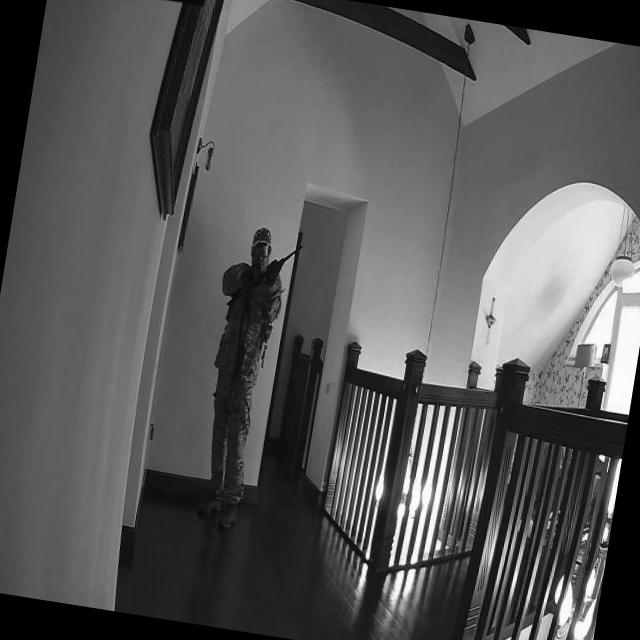gun: (232, 235, 306, 290)
person with a gun: (183, 221, 292, 536)
